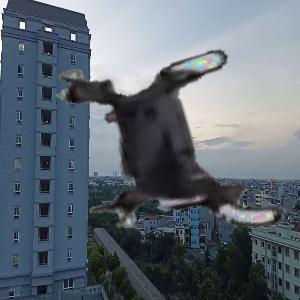drone: (55, 33, 286, 264)
